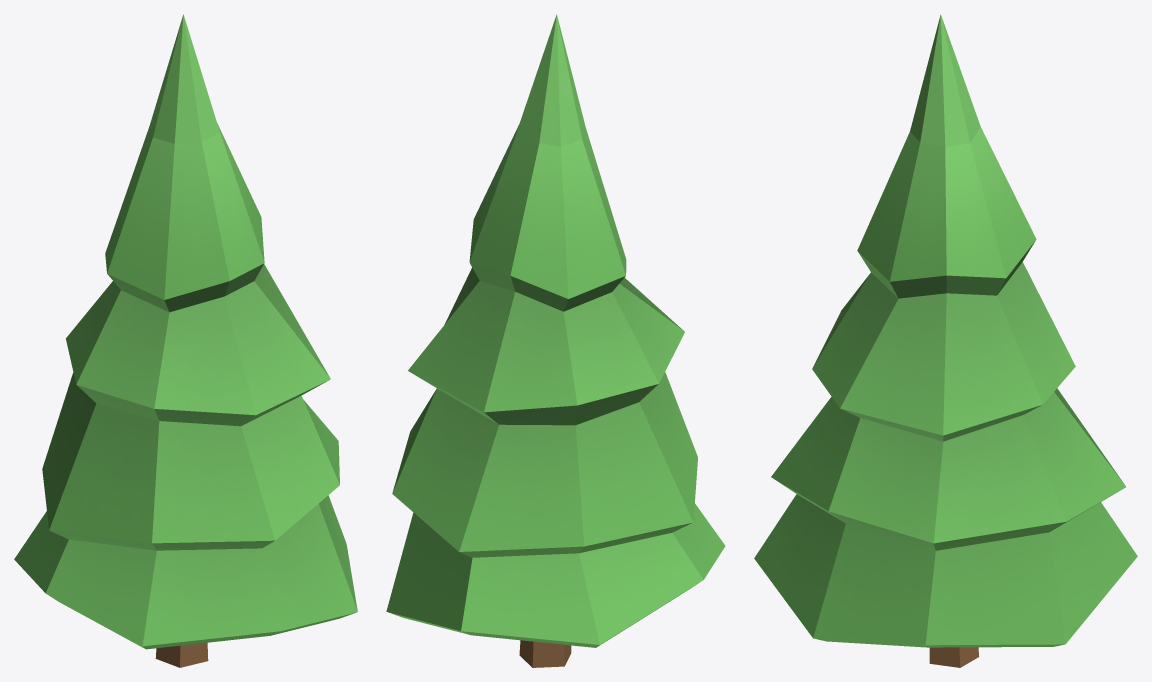
The model's file is Fir_Tree_m_03.fbx.
3 views of the same model, side by side, from view 1: azimuth 30°, elevation 25°; view 2: azimuth 150°, elevation 25°; view 3: azimuth 270°, elevation 25° (orthographic).
Visible parts, largest first — view 1: Fir_Tree_m_03; view 2: Fir_Tree_m_03; view 3: Fir_Tree_m_03.
Boxes of the visible parts, box(x1,y1,x2,y2) form: Fir_Tree_m_03: box(14, 14, 357, 667); Fir_Tree_m_03: box(386, 14, 725, 667); Fir_Tree_m_03: box(754, 14, 1137, 667).
Bounding box in the file's own units: 374 × 776 × 421.
